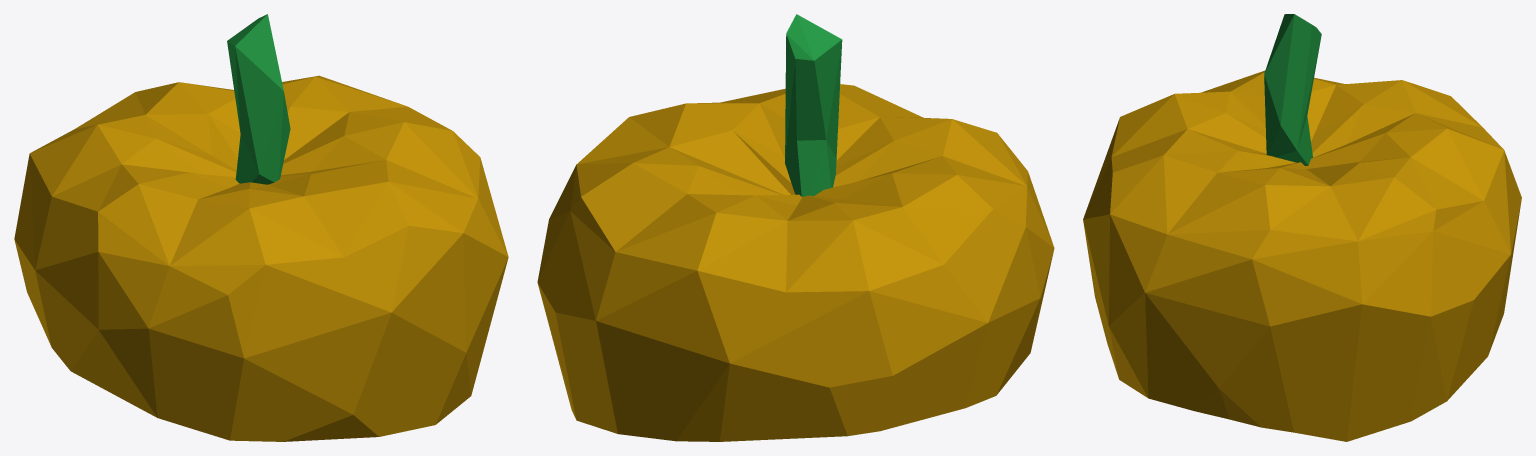
Rendered from Paprika_1.fbx.
3 views of the same model, side by side, from view 1: azimuth 30°, elevation 25°; view 2: azimuth 150°, elevation 25°; view 3: azimuth 270°, elevation 25° (orthographic). The views are drawn at different scales.
Visible parts, largest first — view 1: Cylinder.016; view 2: Cylinder.016; view 3: Cylinder.016.
Boxes of the visible parts, x1,y1,x2,y2 form: Cylinder.016: (14,14,508,441); Cylinder.016: (537,14,1054,441); Cylinder.016: (1083,14,1521,441).
Size of the model in its own units: 211 by 186 by 211.
